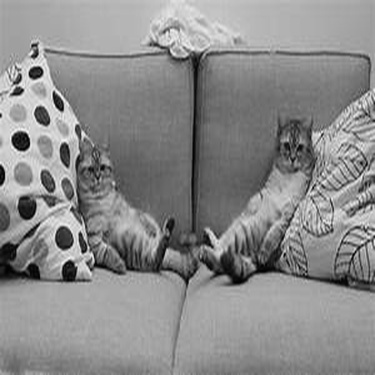cat: (196, 112, 319, 279), (64, 130, 194, 282)
